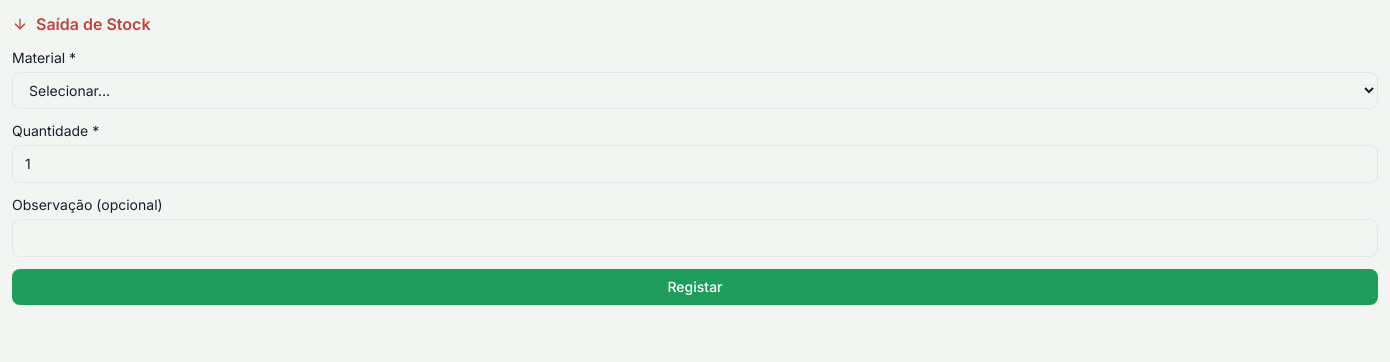
Test case: FormMovimento (saída) › valida quantidade inteira > 0
Replace the text in the number field with "0" at (695, 164), box [12,145,1378,183]
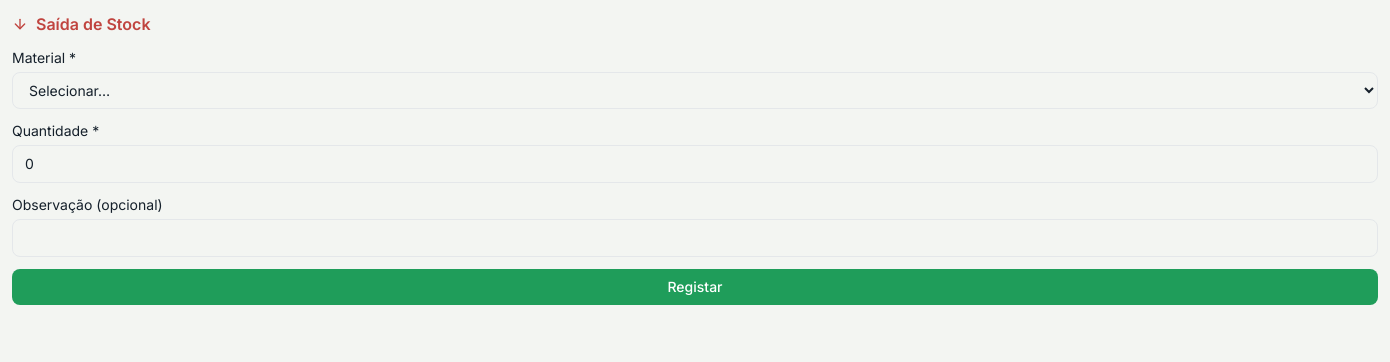
Click the button "Registar" at (695, 287), box [12,269,1378,305]
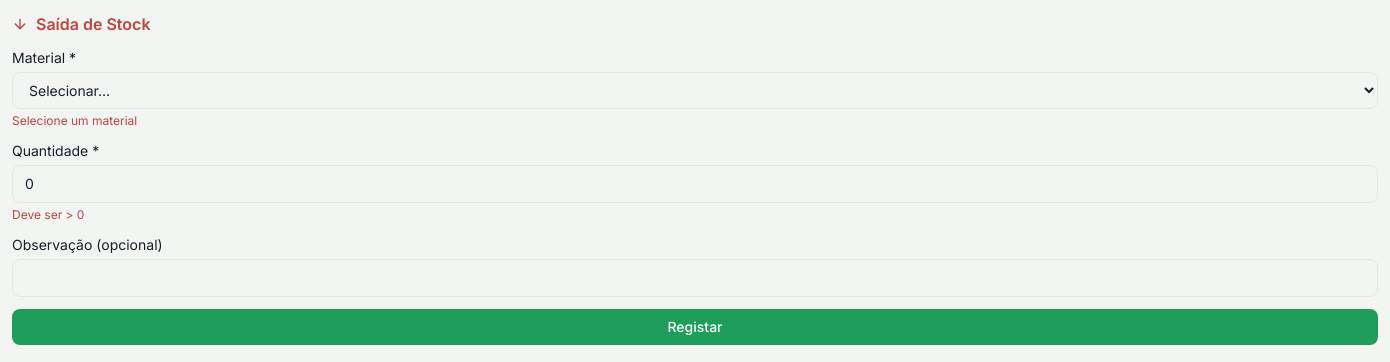
Result: the text "Deve ser > 0" is shown at [12,207,84,222]
